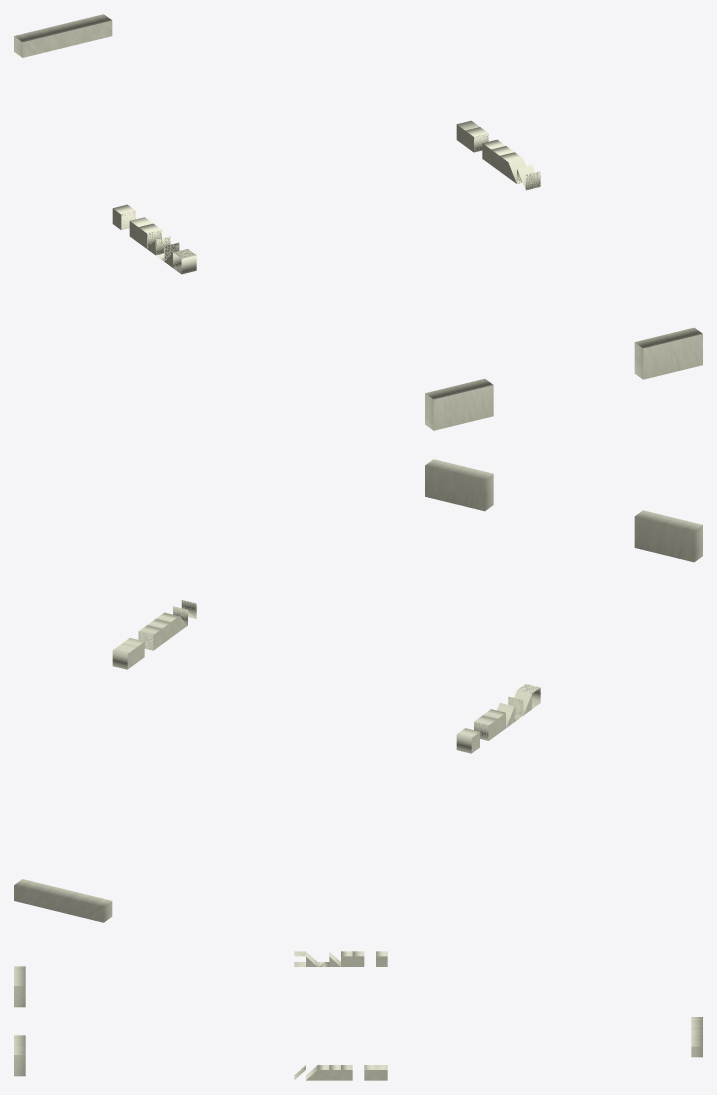
3 views of the same model, one above another, from view 1: azimuth 30°, elevation 25°; view 2: azimuth 150°, elevation 25°; view 3: azimuth 270°, elevation 25° (orthographic). The views are drawn at different scales.
Bounding box in the file's own units: 1.92 × 0.24 × 4.72.
1 material, 1 textured.
